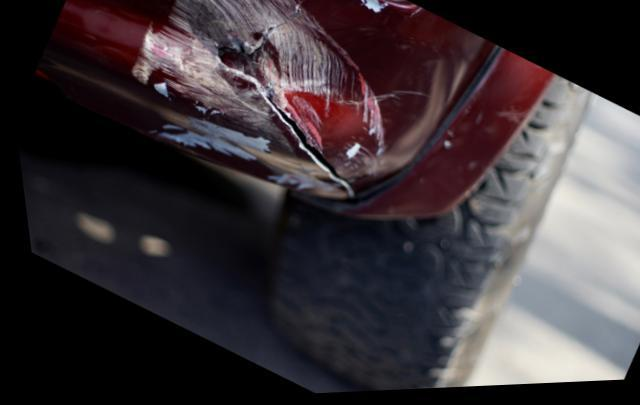crack: (258, 96, 355, 197)
scratch: (123, 0, 418, 205)
